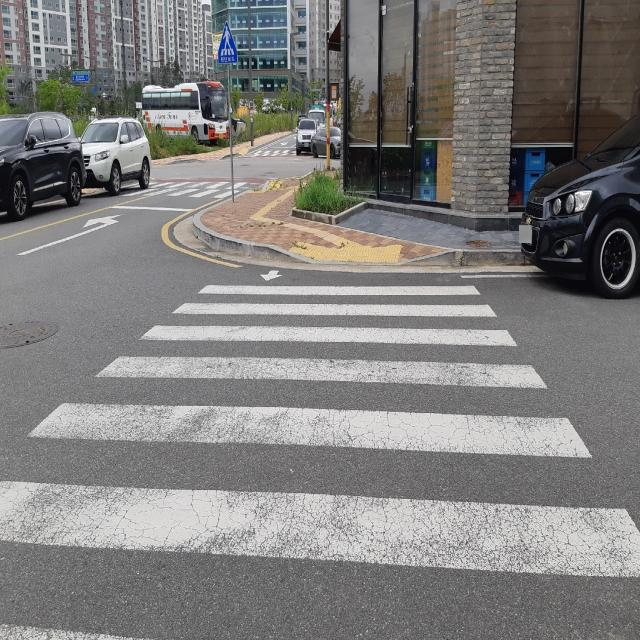횡단보도: (0, 269, 640, 640), (140, 165, 252, 211)
